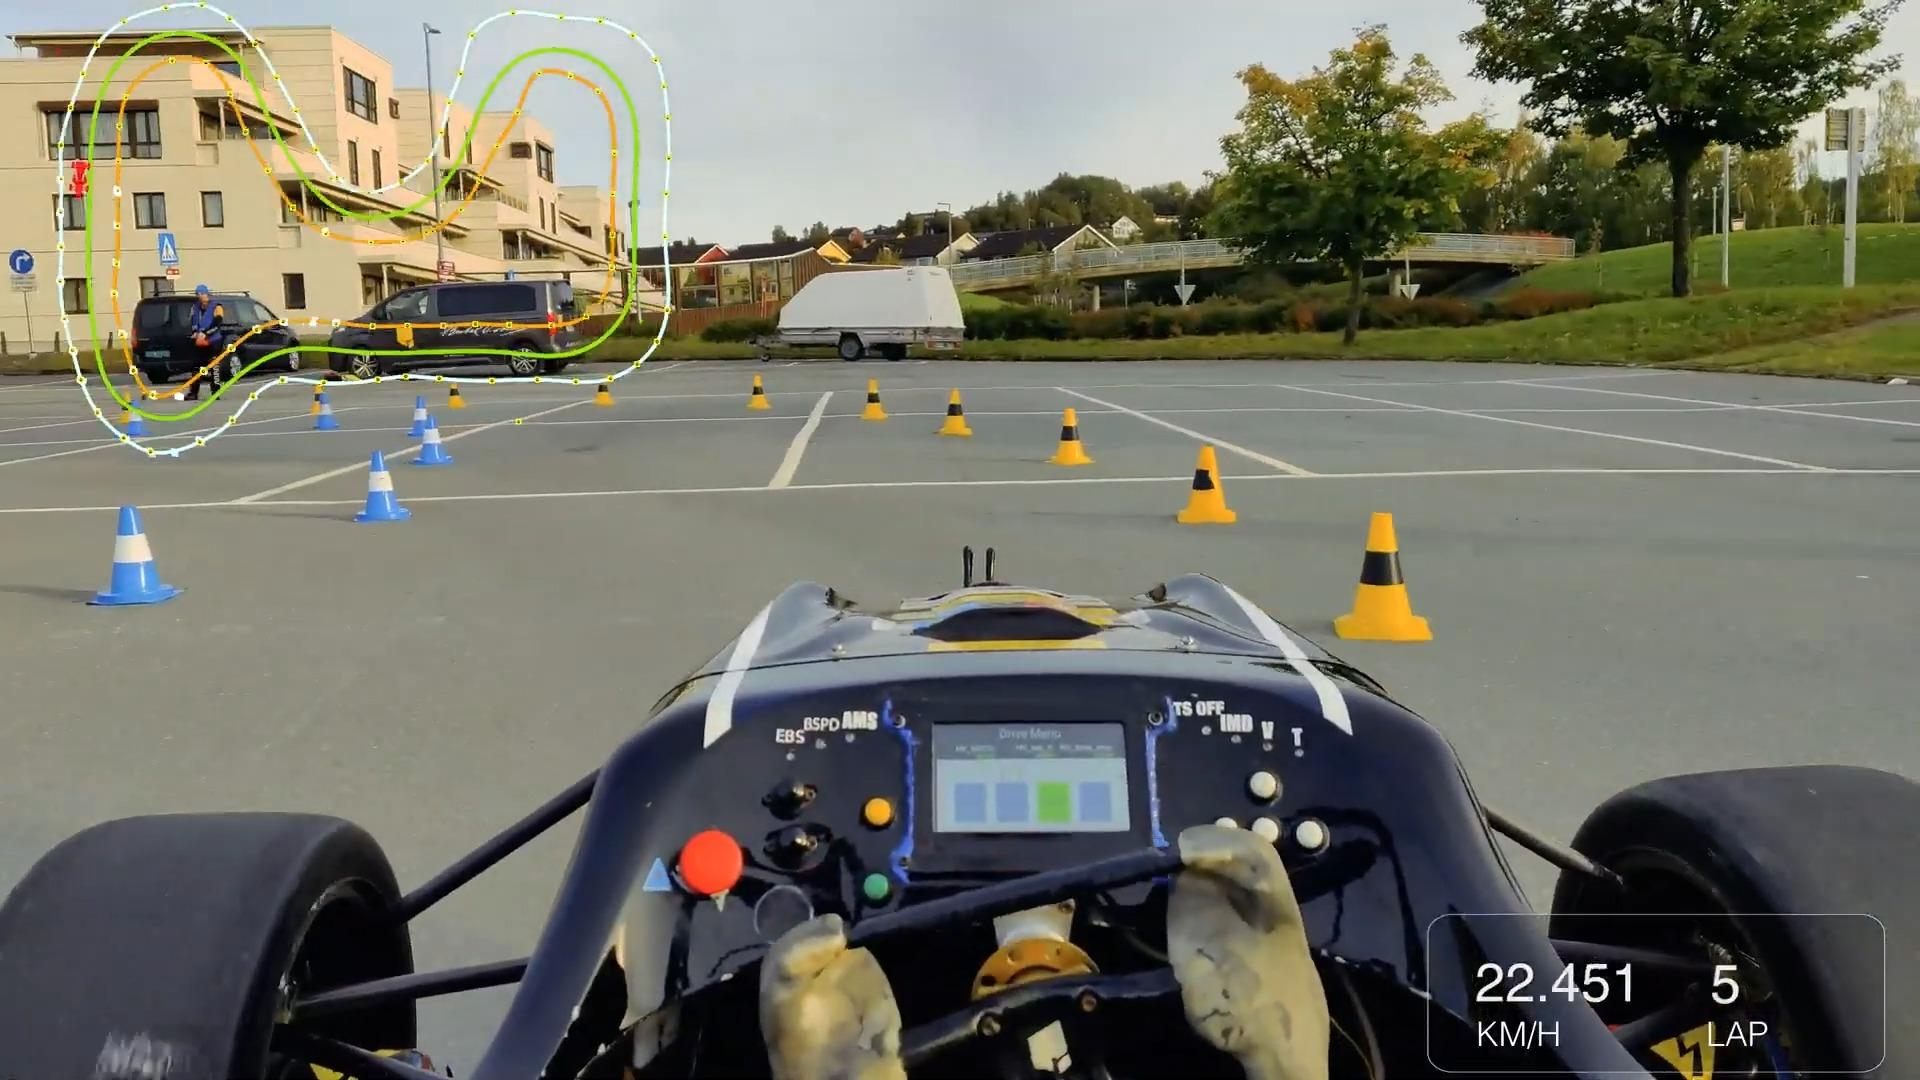blue_cone: (79, 500, 190, 612), (352, 446, 413, 525), (413, 414, 454, 469), (407, 393, 433, 440), (123, 400, 152, 436), (315, 393, 343, 431)
yellow_cone: (1325, 504, 1440, 646), (1172, 443, 1236, 529), (1042, 404, 1097, 471), (935, 386, 976, 442), (857, 376, 891, 422), (744, 371, 775, 414), (447, 381, 468, 410), (593, 380, 615, 407), (119, 389, 133, 425), (310, 385, 327, 414)
